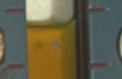border: (84, 7, 108, 15), (4, 7, 27, 15), (5, 63, 28, 70), (87, 62, 109, 69)
liquidlevel: (25, 17, 79, 33)
